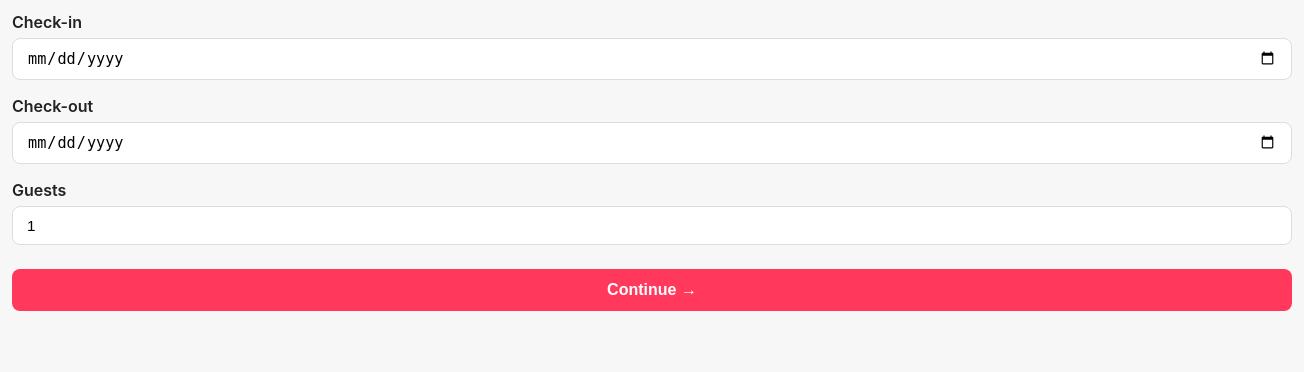
it: BookingForm — StepDates Validation › shows validation errors when submitted empty
# Click Continue without filling anything in
What coordinates should you click on to do the following:
click the button "Continue →"
I would click on:
 (652, 290)
Its box is [12, 269, 1292, 311].
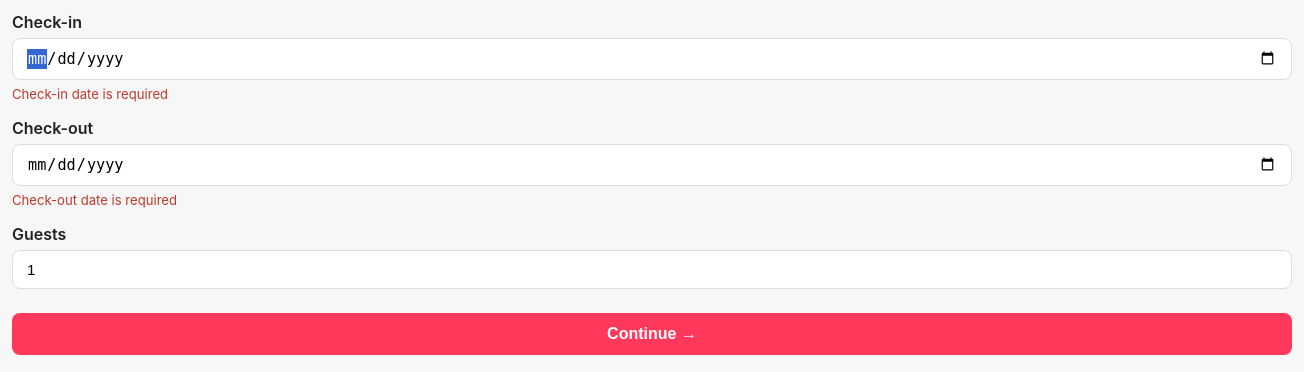
Expected: the text "Check-in date is required" is shown, [12, 86, 168, 102]
Expected: the text "Check-out date is required" is shown, [12, 192, 177, 208]
